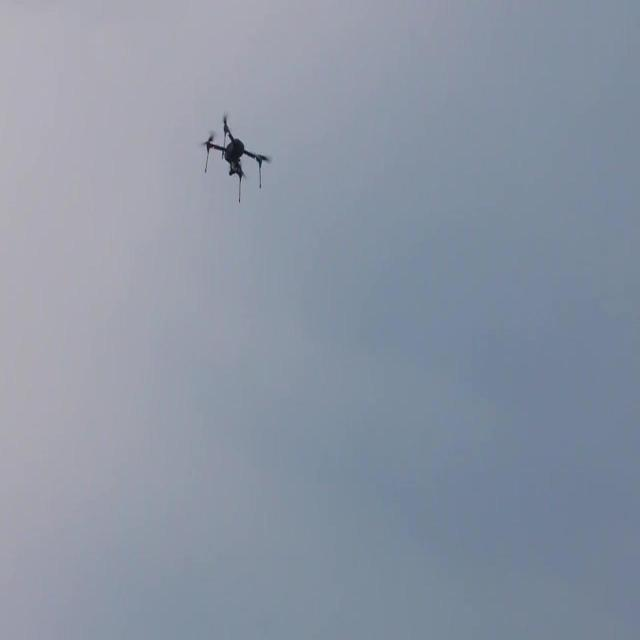drone: (198, 110, 276, 206)
